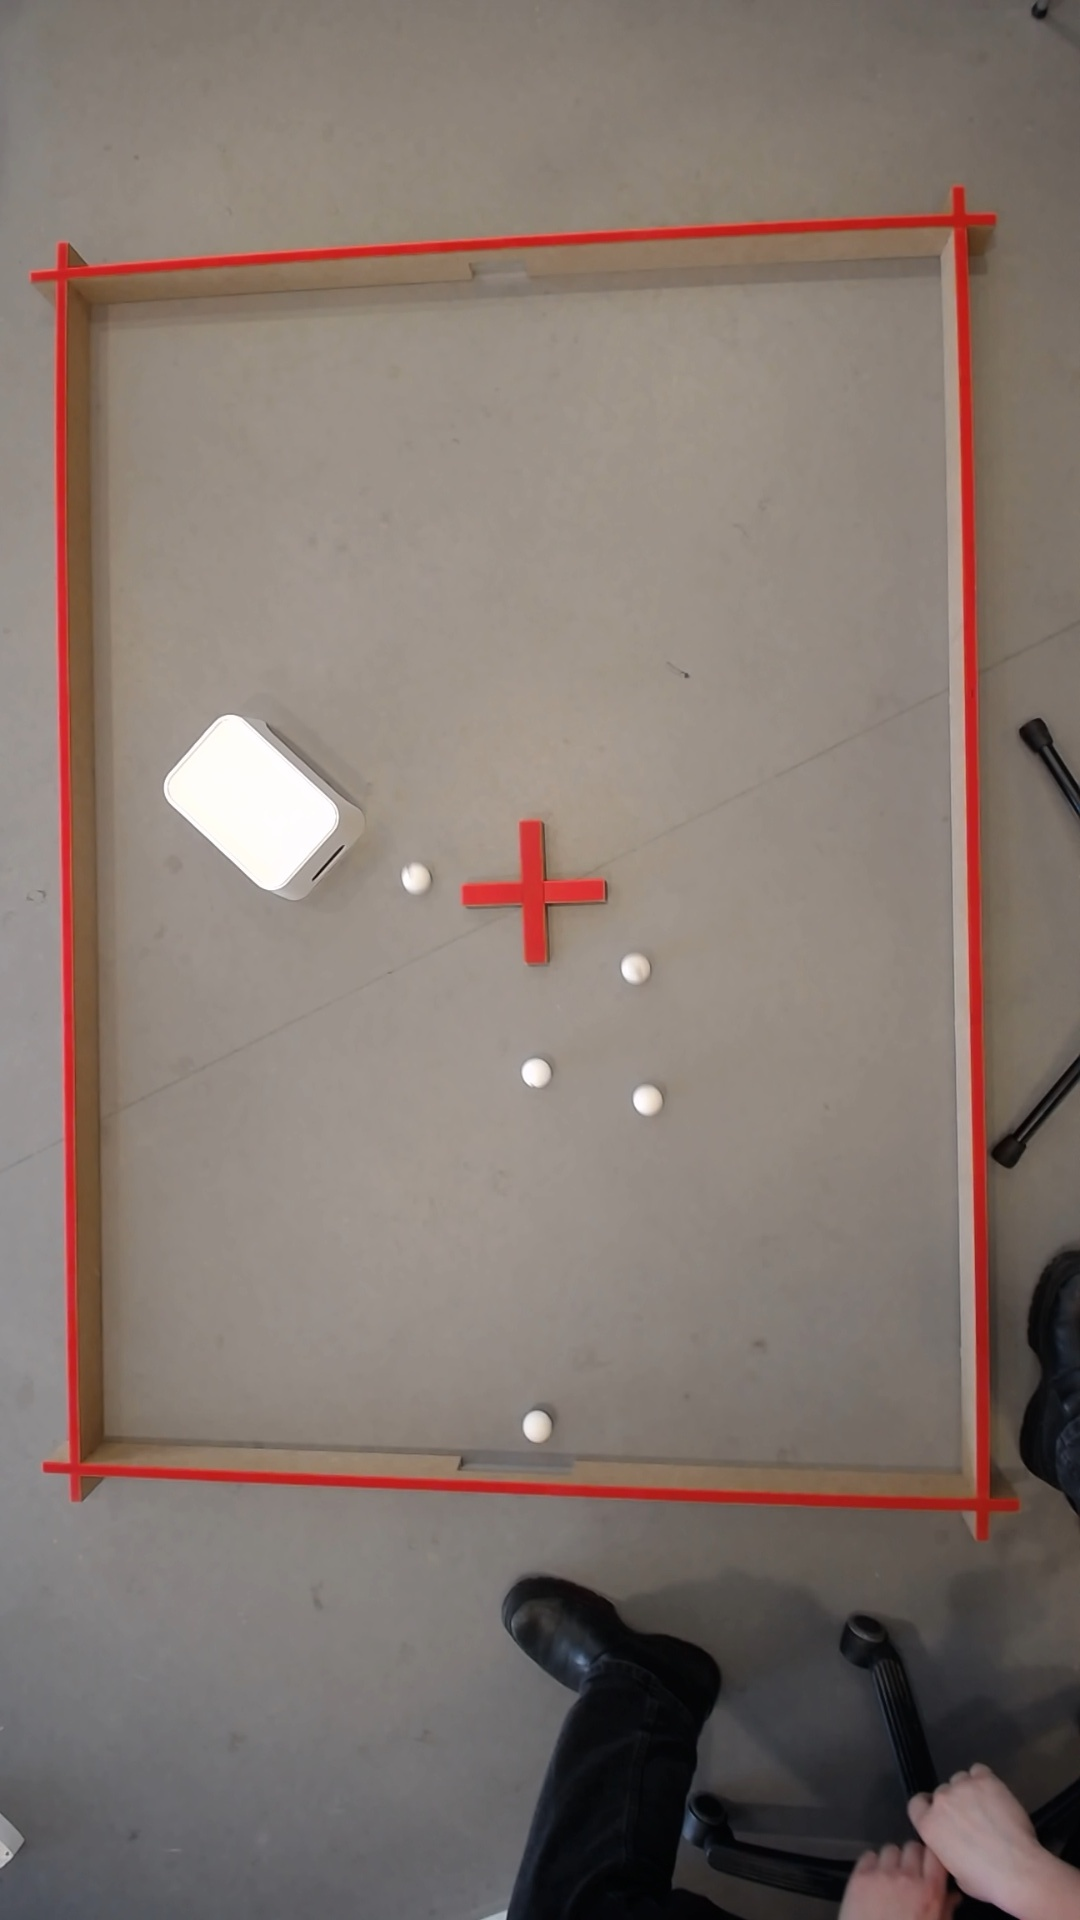balls: (150, 703, 348, 899), (516, 1055, 551, 1091), (516, 1407, 549, 1443), (633, 1088, 655, 1113), (401, 865, 423, 890)
car: (616, 952, 642, 982)
